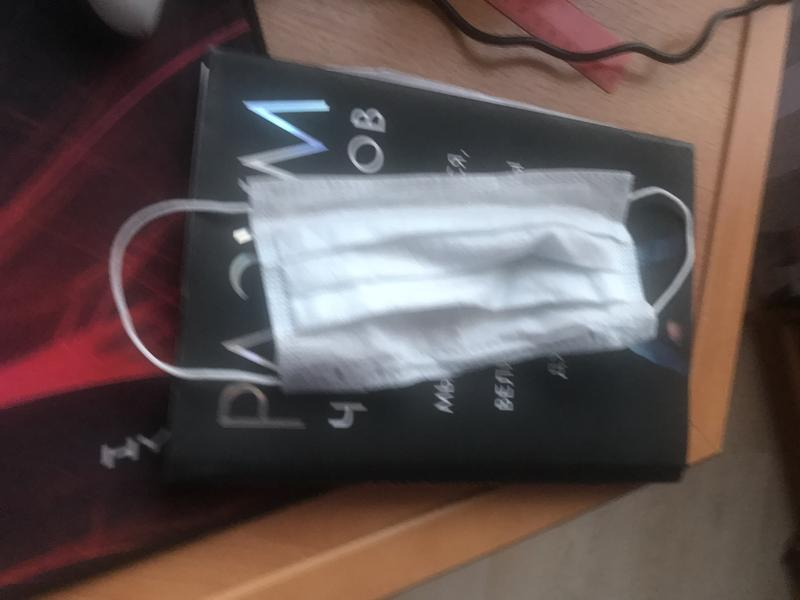medical_mask: (108, 168, 694, 392)
